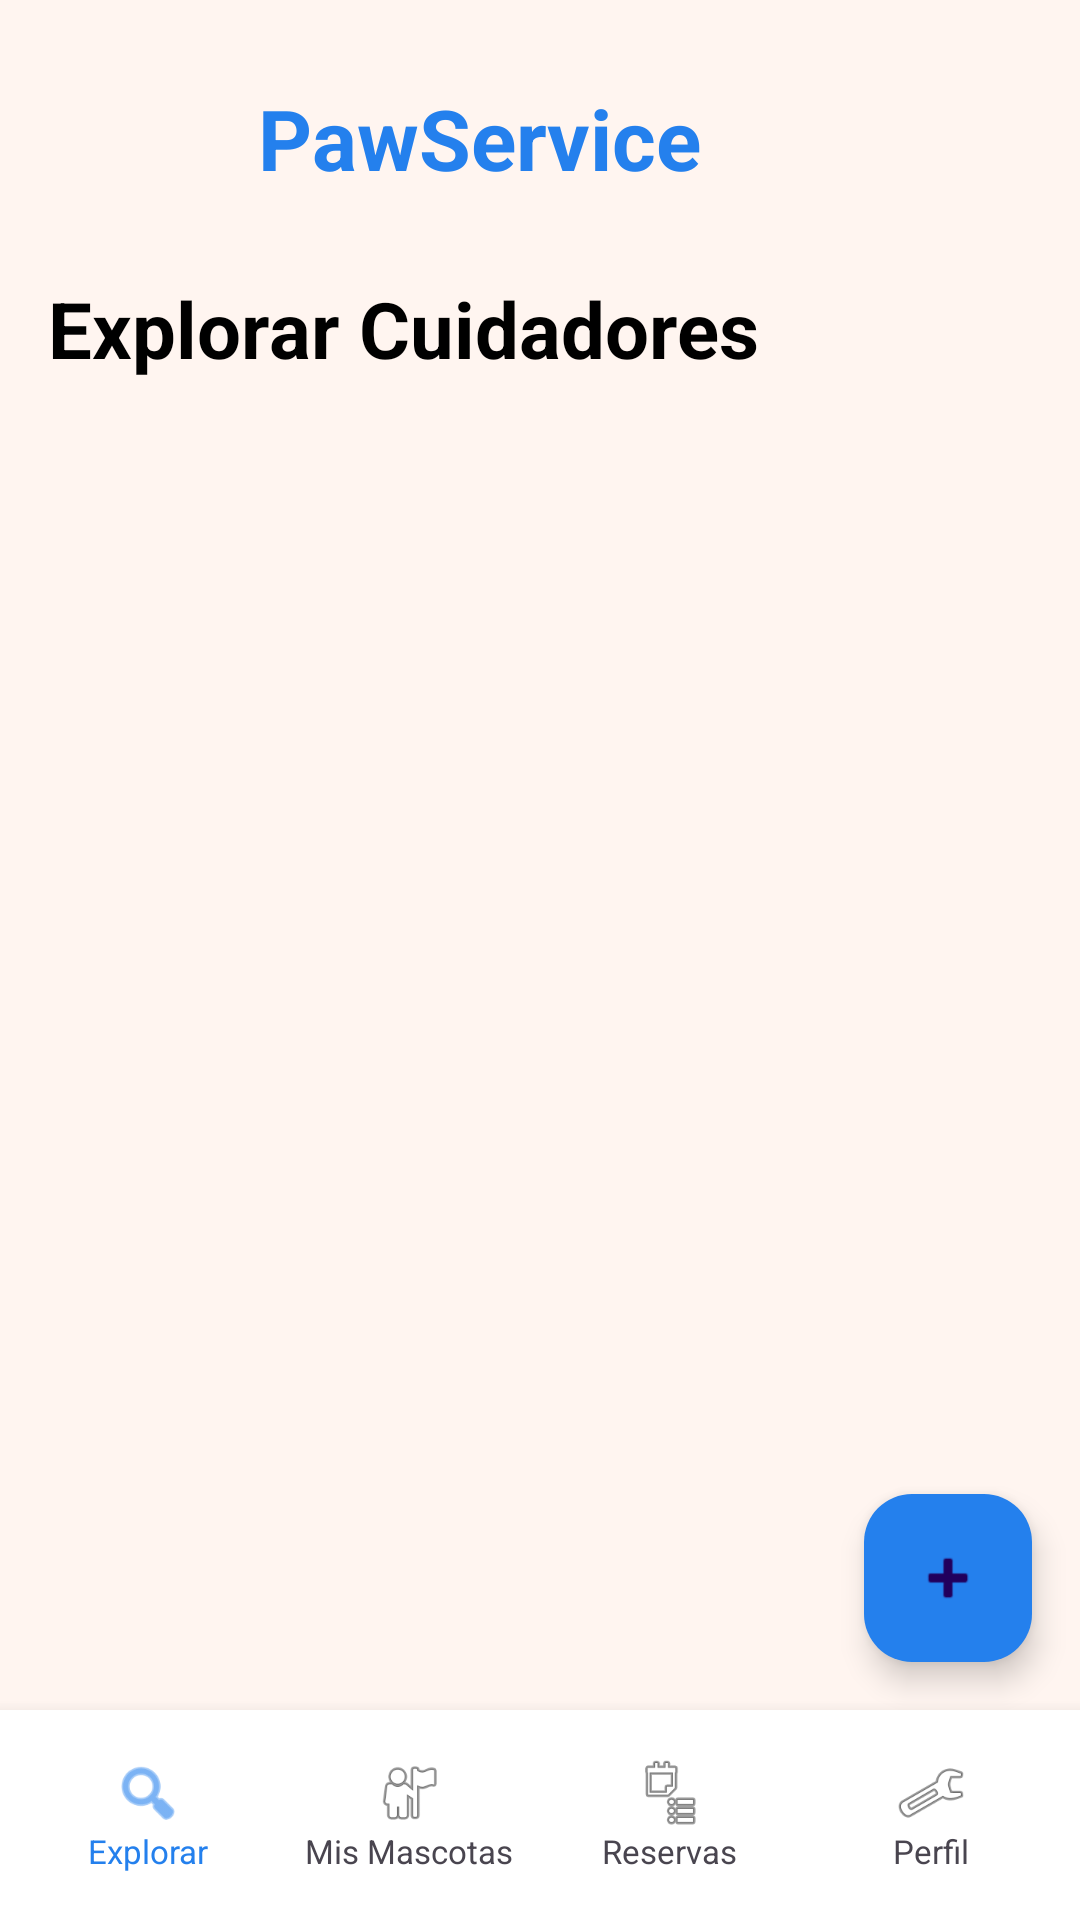

Screen size 1080px x 1920px. Icon name, then its center in pixels as point (x, y):
Agregar cuidador: point (948, 1578)
manage: point (930, 1793)
myplaces: point (410, 1793)
